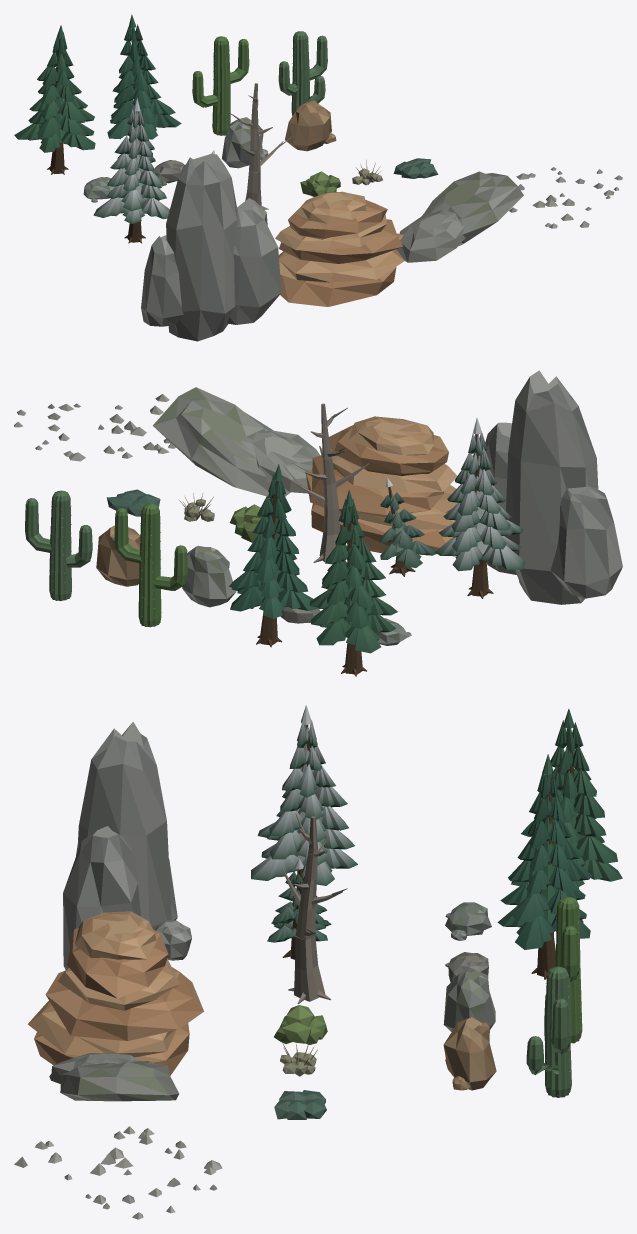
File: endless-nature.glb
The picture shows the model from 3 angles, top to bottom: view 1: azimuth 30°, elevation 25°; view 2: azimuth 150°, elevation 25°; view 3: azimuth 270°, elevation 25°; orthographic projection. The views are drawn at different scales.
Parts seen in each view (by area): view 1: Outcrop_Granite, Outcrop_Sandstone, Outcrop_Slab, Pine_Alpine, Pine_Snow, Pine_Windswept, Cactus_Saguaro, Cactus_Forked, Boulder_Sandstone, Tree_Dead, Boulder_Granite, Scree_Field (+4 smaller); view 2: Outcrop_Granite, Outcrop_Sandstone, Outcrop_Slab, Pine_Alpine, Pine_Snow, Pine_Windswept, Cactus_Saguaro, Cactus_Forked, Tree_Dead, Boulder_Granite, Pine_Stunted, Boulder_Sandstone (+6 smaller); view 3: Outcrop_Sandstone, Outcrop_Granite, Pine_Windswept, Pine_Snow, Pine_Alpine, Outcrop_Slab, Cactus_Forked, Tree_Dead, Boulder_Sandstone, Cactus_Saguaro, Boulder_Granite, Scree_Field (+6 smaller).
Part boxes in pixels (x1,y1,x2,y2): Outcrop_Granite: (141, 154, 281, 341); Outcrop_Sandstone: (275, 191, 404, 306); Outcrop_Slab: (396, 171, 523, 262); Pine_Alpine: (14, 25, 95, 174); Pine_Snow: (93, 98, 169, 243); Pine_Windswept: (107, 14, 181, 154); Cactus_Saguaro: (192, 36, 249, 135); Cactus_Forked: (278, 31, 327, 115); Boulder_Sandstone: (285, 100, 336, 151); Tree_Dead: (228, 83, 293, 209); Boulder_Granite: (222, 117, 268, 168); Scree_Field: (509, 167, 622, 228); Outcrop_Granite: (485, 370, 622, 604); Outcrop_Sandstone: (305, 416, 457, 555); Outcrop_Slab: (153, 387, 319, 496); Pine_Alpine: (309, 490, 397, 676); Pine_Snow: (435, 418, 525, 598); Pine_Windswept: (229, 464, 318, 647); Cactus_Saguaro: (114, 503, 187, 627); Cactus_Forked: (25, 490, 92, 600); Tree_Dead: (283, 403, 369, 562); Boulder_Granite: (182, 545, 236, 607); Pine_Stunted: (379, 478, 436, 576); Boulder_Sandstone: (96, 525, 140, 586); Outcrop_Sandstone: (28, 911, 203, 1075); Outcrop_Granite: (63, 722, 191, 969); Pine_Windswept: (497, 754, 592, 979); Pine_Snow: (251, 705, 357, 913); Pine_Alpine: (511, 709, 622, 922); Outcrop_Slab: (49, 1053, 179, 1101); Cactus_Forked: (526, 966, 571, 1097); Tree_Dead: (282, 813, 347, 1003); Boulder_Sandstone: (443, 1017, 496, 1090); Cactus_Saguaro: (555, 897, 582, 1043); Boulder_Granite: (443, 970, 495, 1031); Scree_Field: (14, 1126, 222, 1219).
Bounding box in the file's own units: 23.63 × 8.88 × 17.62.
